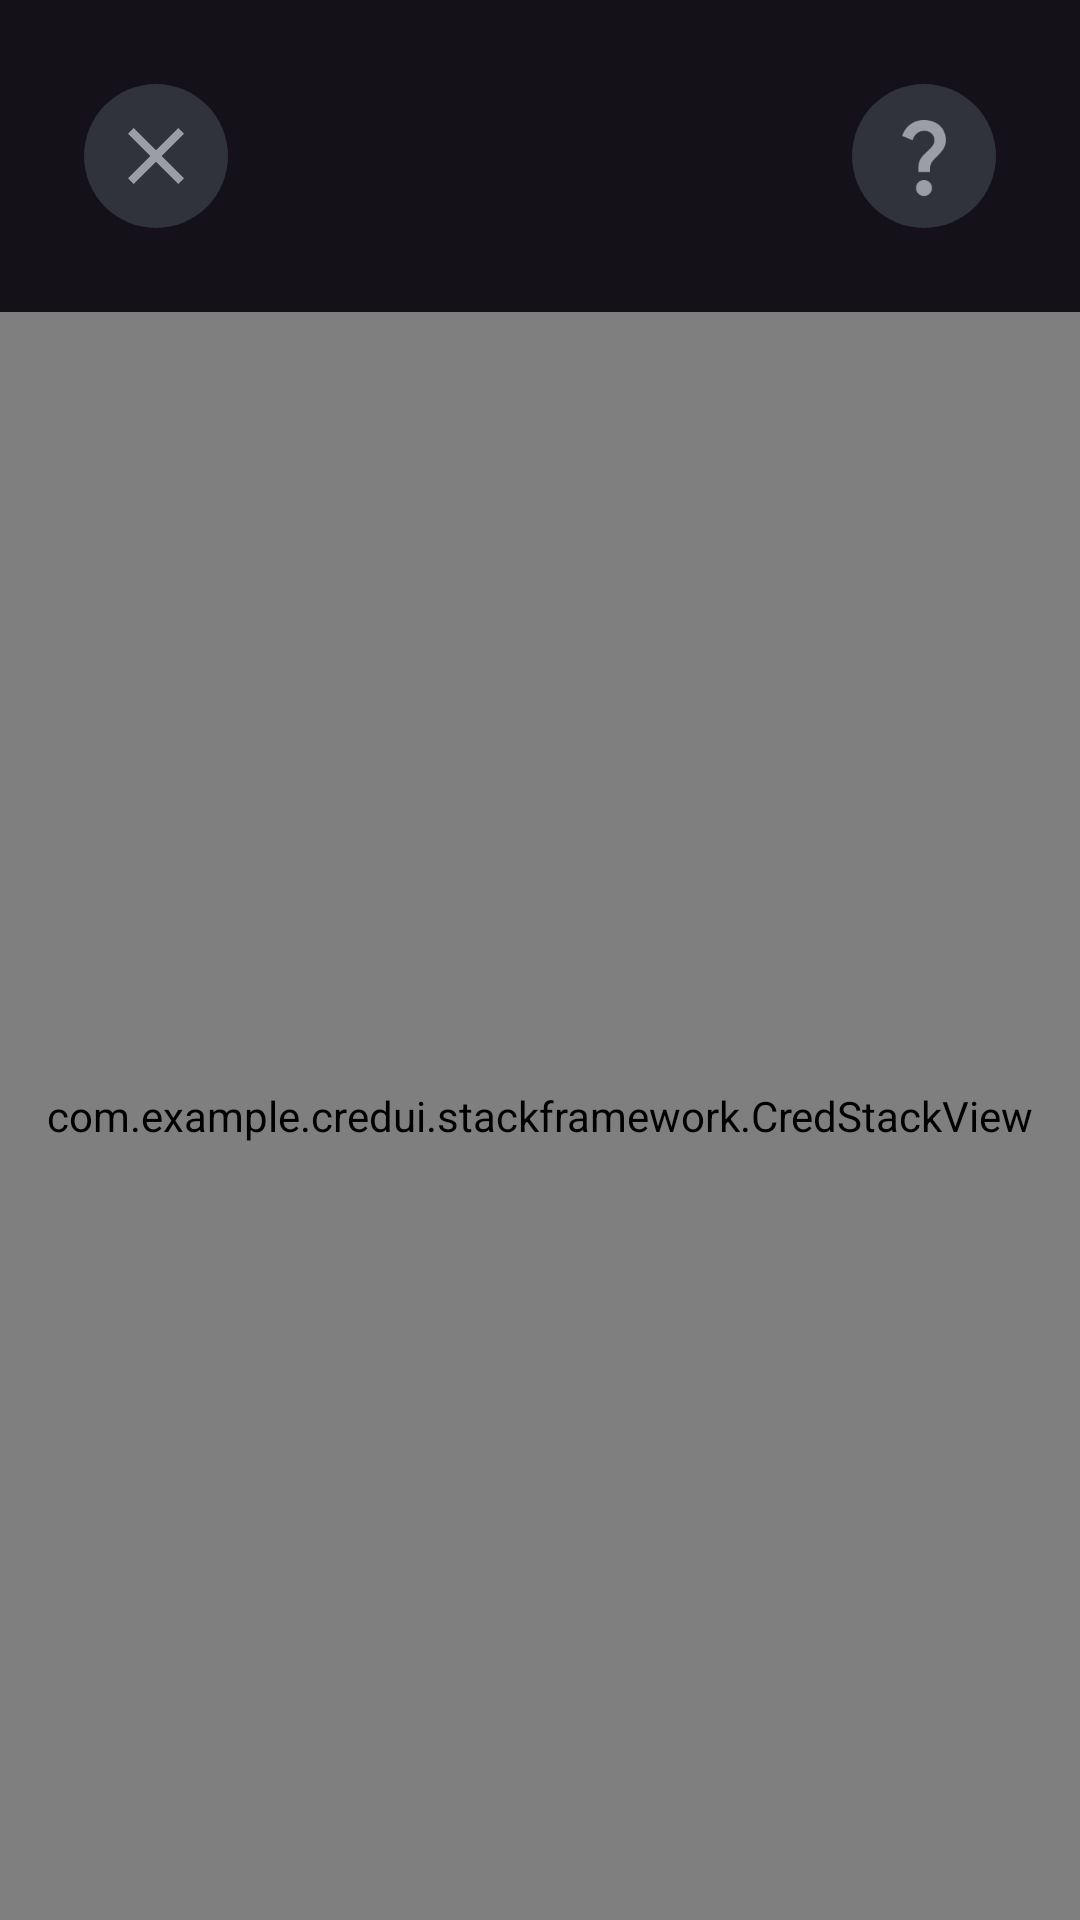

Named icons in this screenshot (1080px×1920px) and their centers, [x,y]:
close: [156,156]
questionmark: [924,156]
